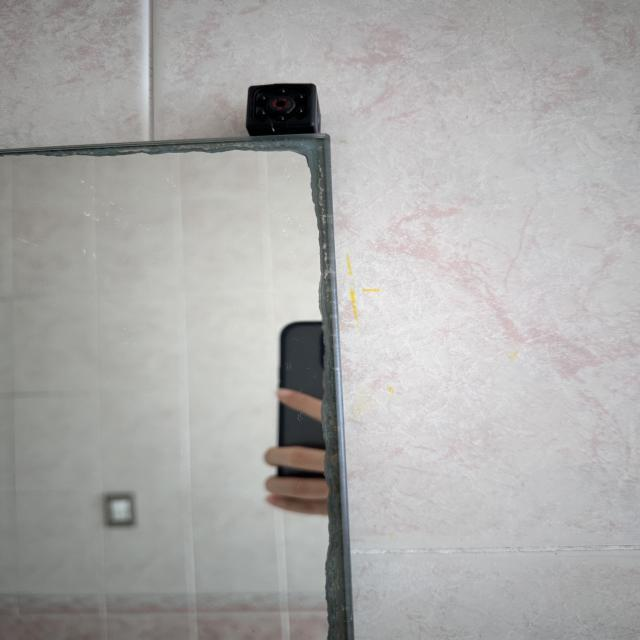hidden camera: (268, 98, 295, 113)
